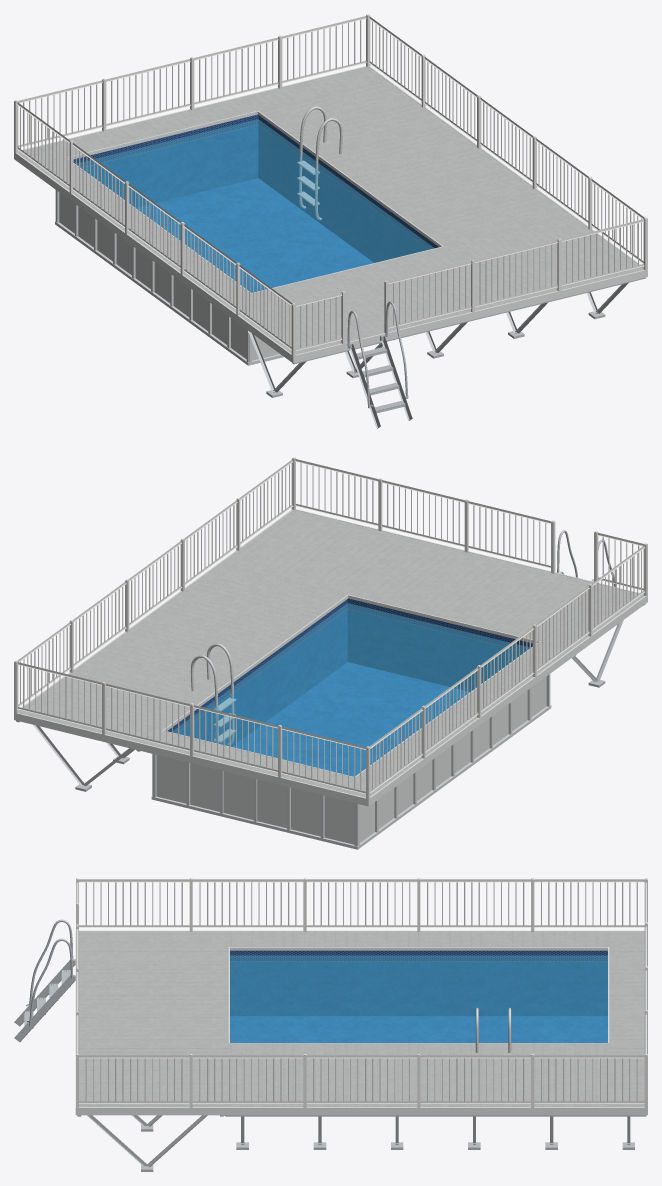
Rendered from kayak-pool-12x20-white-endside-ag-fence.5615dd9b25.glb.
3 views of the same model, one above another, from view 1: azimuth 30°, elevation 25°; view 2: azimuth 150°, elevation 25°; view 3: azimuth 270°, elevation 25° (orthographic). The views are drawn at different scales.
Parts seen in each view (by area): view 1: deck, water, fence, liner_wall, liner_floor, fascia, wall, upright, stud, ladder, steel; view 2: deck, fence, water, liner_wall, wall, liner_floor, fascia, upright, stud, steel; view 3: deck, water, liner_wall, fence, liner_floor, fascia, stud, ladder.
Part boxes in pixels (left/top/right/bottom): deck: left=17, top=67, right=643, bottom=354; water: left=76, top=119, right=434, bottom=292; fence: left=14, top=14, right=647, bottom=356; liner_wall: left=73, top=114, right=438, bottom=262; liner_floor: left=136, top=178, right=373, bottom=292; fascia: left=14, top=66, right=647, bottom=363; wall: left=59, top=192, right=279, bottom=360; upright: left=55, top=190, right=283, bottom=365; stud: left=222, top=277, right=645, bottom=397; ladder: left=347, top=301, right=412, bottom=428; steel: left=297, top=106, right=342, bottom=220; deck: left=18, top=510, right=644, bottom=797; fence: left=14, top=457, right=647, bottom=799; water: left=173, top=603, right=529, bottom=776; liner_wall: left=167, top=598, right=532, bottom=746; wall: left=156, top=676, right=546, bottom=844; liner_floor: left=232, top=662, right=469, bottom=776; fascia: left=14, top=509, right=647, bottom=806; upright: left=151, top=674, right=551, bottom=849; stud: left=16, top=604, right=645, bottom=791; steel: left=190, top=643, right=236, bottom=745; deck: left=79, top=931, right=644, bottom=1107; water: left=230, top=955, right=607, bottom=1042; liner_wall: left=230, top=950, right=607, bottom=1016; fence: left=76, top=878, right=647, bottom=1107; liner_floor: left=230, top=1016, right=607, bottom=1042; fascia: left=75, top=930, right=647, bottom=1115; stud: left=77, top=1115, right=646, bottom=1171; ladder: left=14, top=919, right=75, bottom=1042.
Bounding box in the file's own units: 6.71 × 2.15 × 10.13.
Materials: 11 (3 with a texture image).
